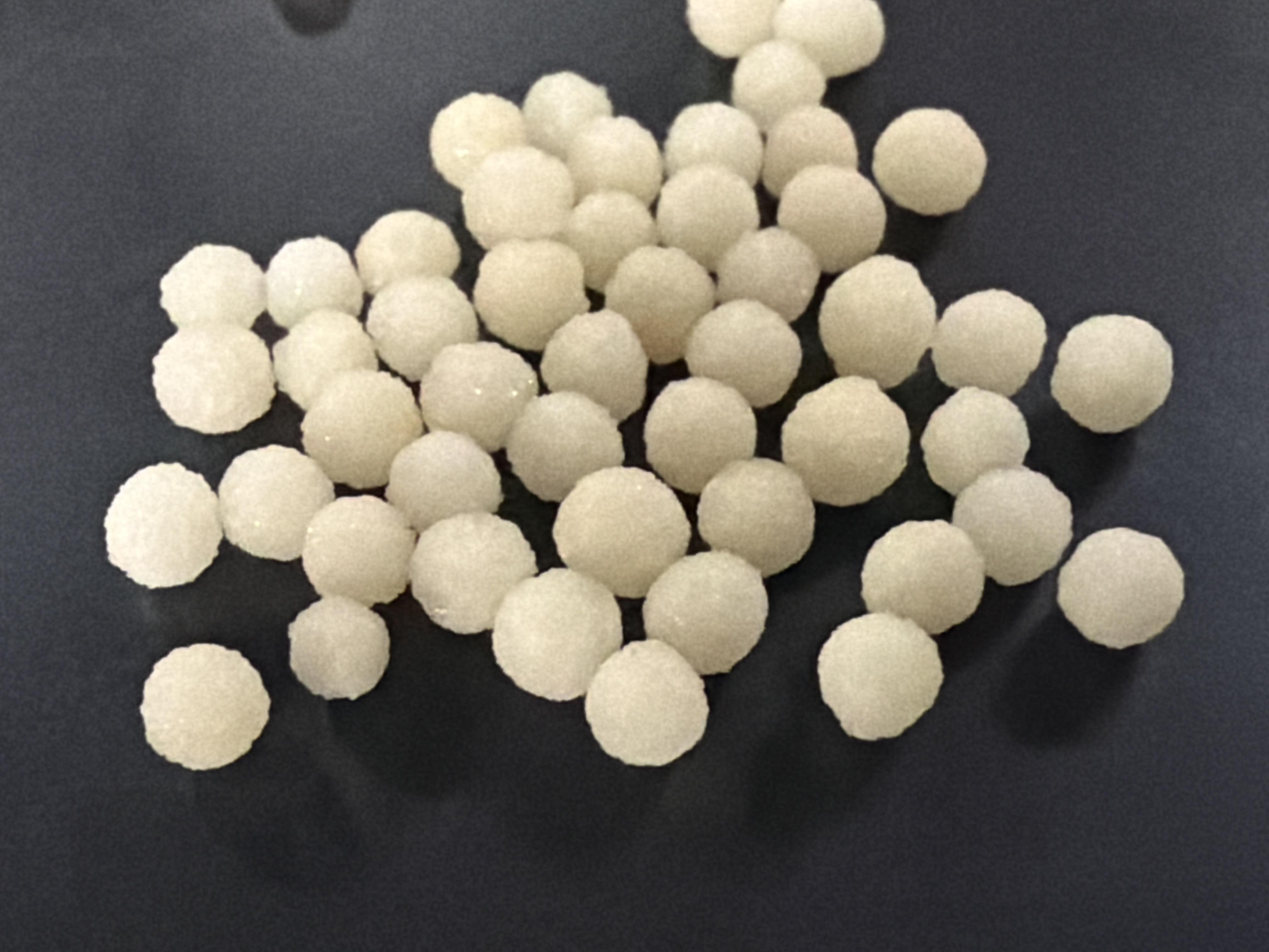pill: (553, 468, 691, 598), (492, 569, 622, 700), (781, 377, 909, 506), (140, 643, 270, 770), (818, 613, 943, 740), (585, 639, 708, 766), (819, 255, 936, 388), (409, 513, 537, 634), (643, 552, 768, 675), (1057, 528, 1184, 648), (104, 463, 222, 587), (301, 370, 423, 489), (952, 466, 1072, 585), (1051, 316, 1173, 433), (862, 520, 985, 634), (697, 458, 815, 576), (152, 323, 274, 434), (218, 446, 334, 561), (506, 391, 624, 502), (419, 342, 538, 452), (644, 377, 756, 493), (473, 239, 589, 350), (605, 247, 715, 364), (685, 300, 802, 407), (302, 496, 415, 605), (872, 109, 987, 216), (932, 289, 1046, 396), (540, 309, 648, 421), (777, 164, 886, 273), (366, 275, 478, 381), (386, 430, 502, 531), (921, 387, 1029, 495), (462, 146, 574, 249), (656, 163, 759, 271), (288, 597, 390, 699), (274, 310, 378, 410), (717, 227, 821, 323), (560, 191, 658, 290), (430, 93, 527, 189), (355, 209, 460, 294), (266, 236, 364, 327), (762, 105, 858, 197), (160, 244, 265, 327), (732, 39, 826, 131), (566, 116, 662, 206), (773, 0, 885, 77), (664, 102, 763, 186), (522, 71, 612, 158), (688, 0, 780, 58)
